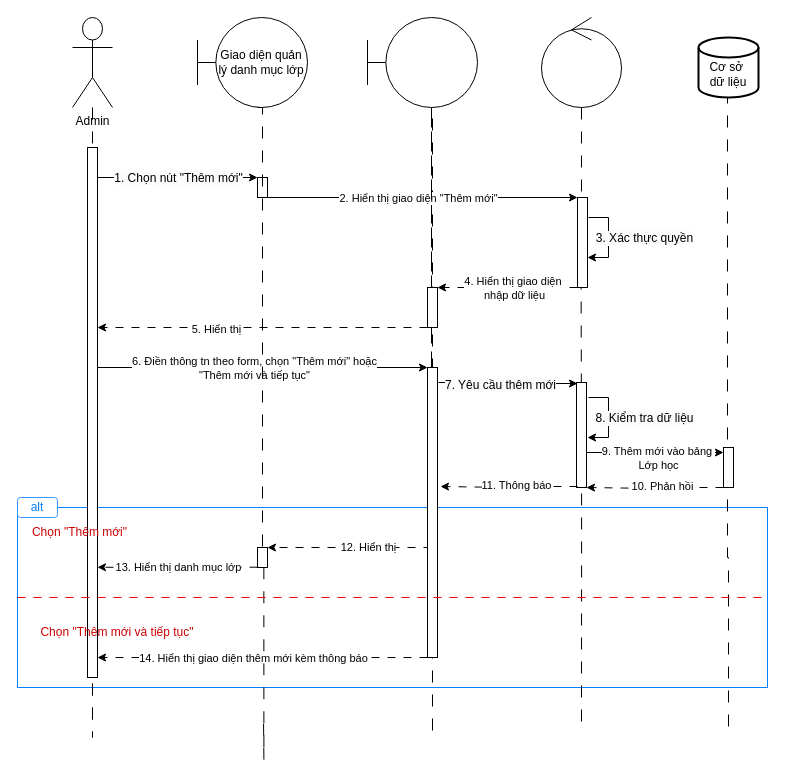
Some shapes in this 786 by 778 pixel diagram are drawn without their labels. Here are the shapes that lost their labels. From the top down, the centre of each, then its label:
At point 422,62: "Giao diện thêm mới lớp".
At point 581,62: "Dữ liệu controller".
